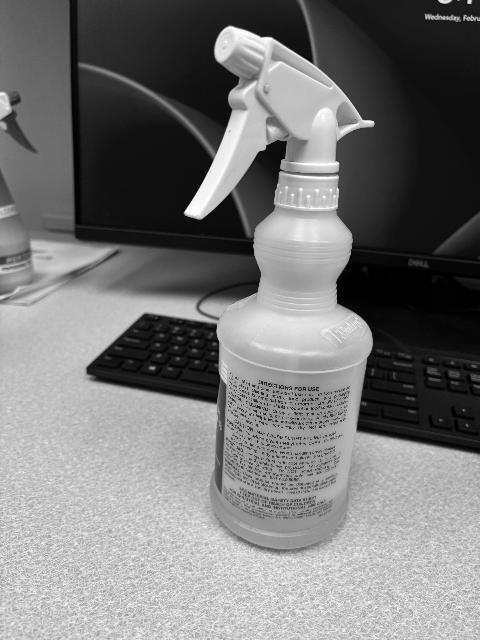StarSpray: (184, 26, 374, 555)
